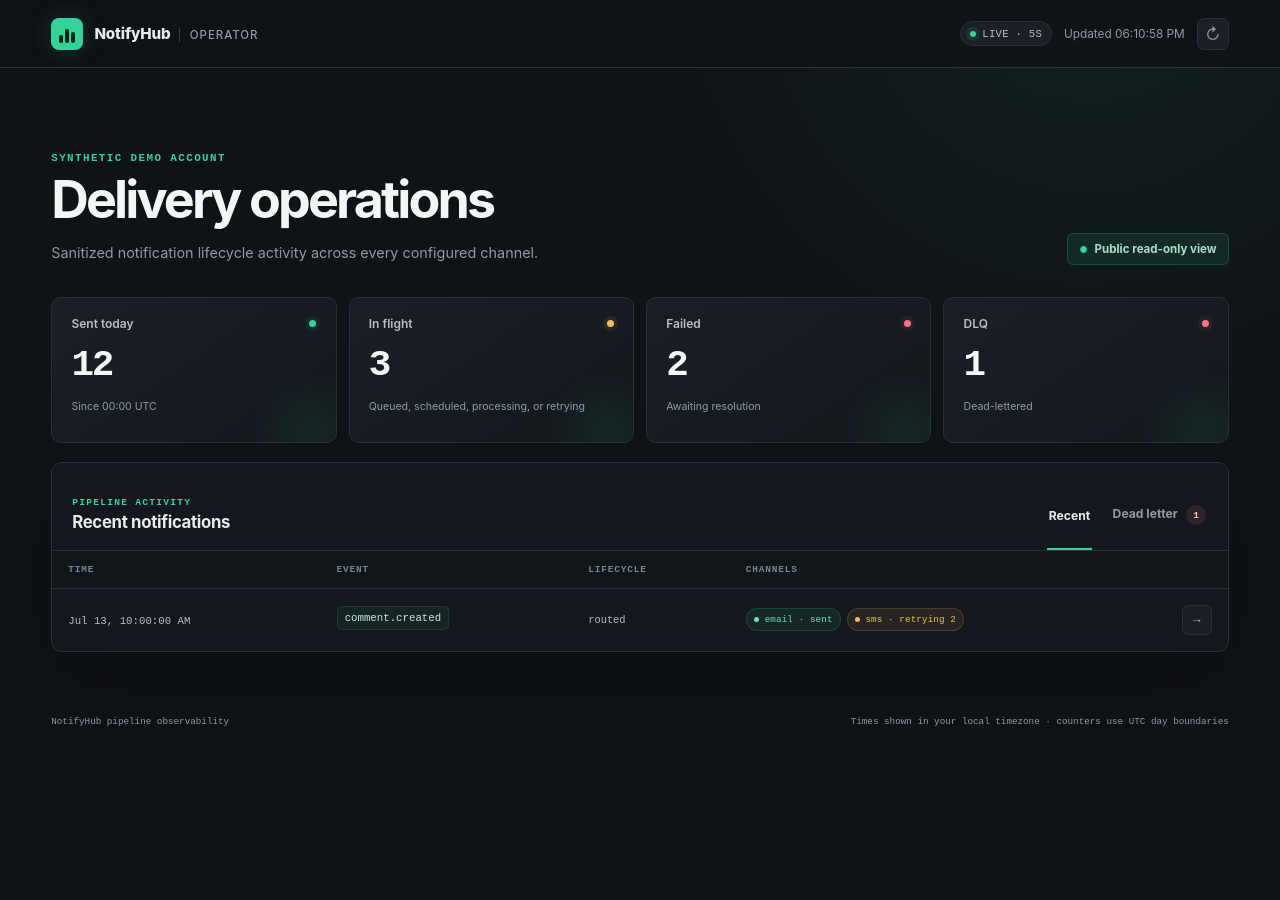
Test: operator dashboard › handles the retried retry outcome and keeps the key in component memory
Click the tab "Dead letter 1". click: (1159, 516)
box: [1111, 482, 1208, 550]
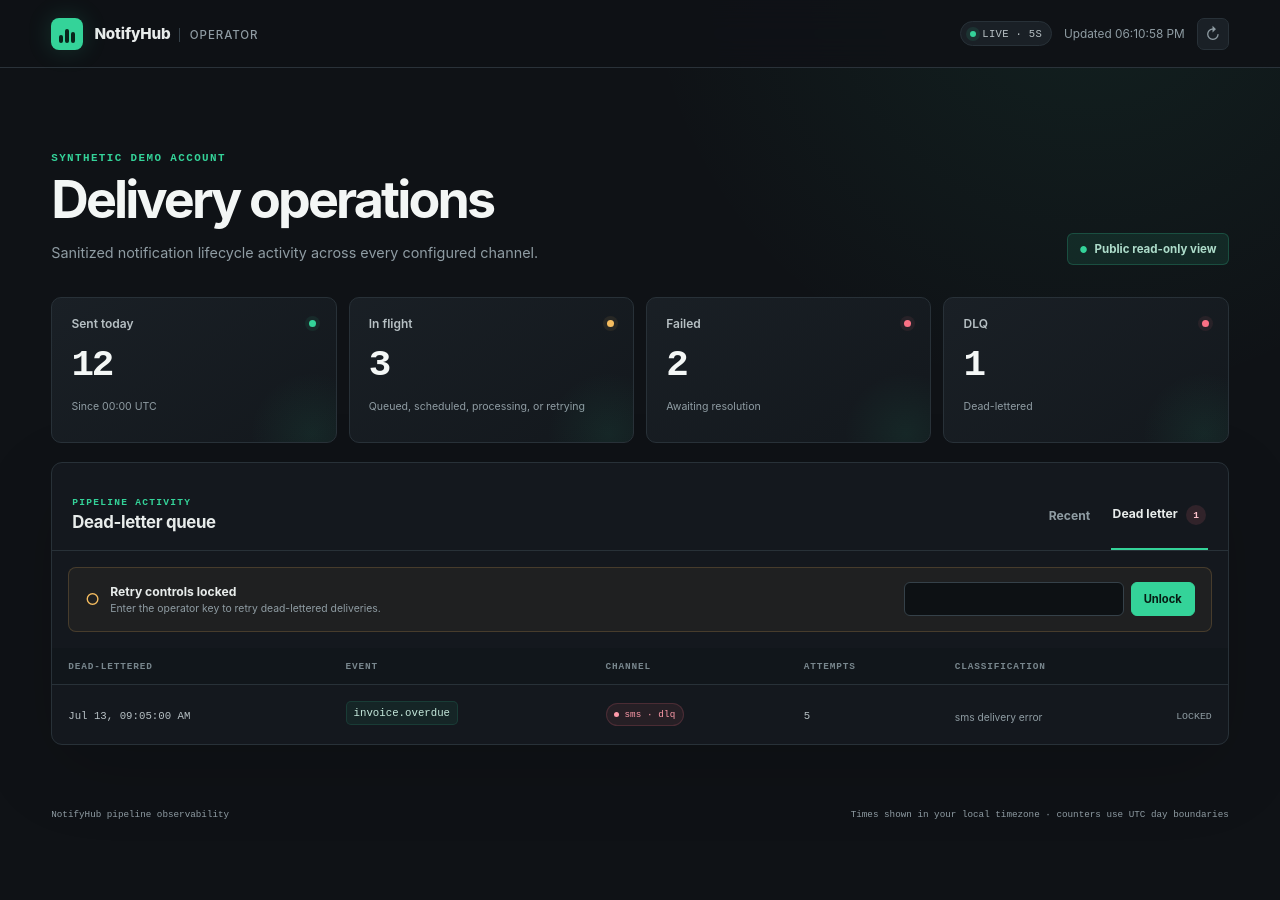
Type "memory-only-key" into the password field named "Operator key". click: (1014, 599)
box: [904, 582, 1124, 616]
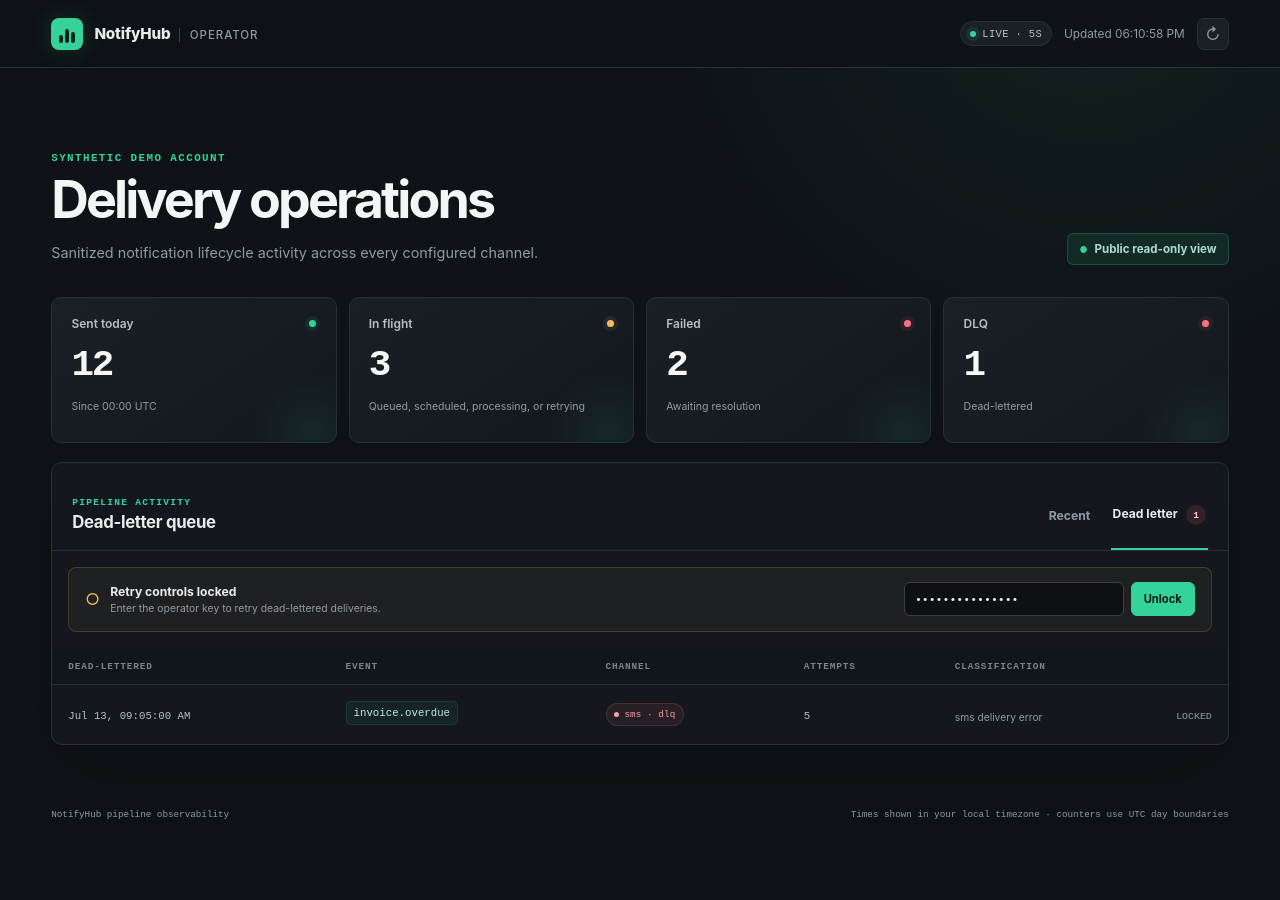
Submit the form named "Operator key", box [904, 582, 1195, 616]
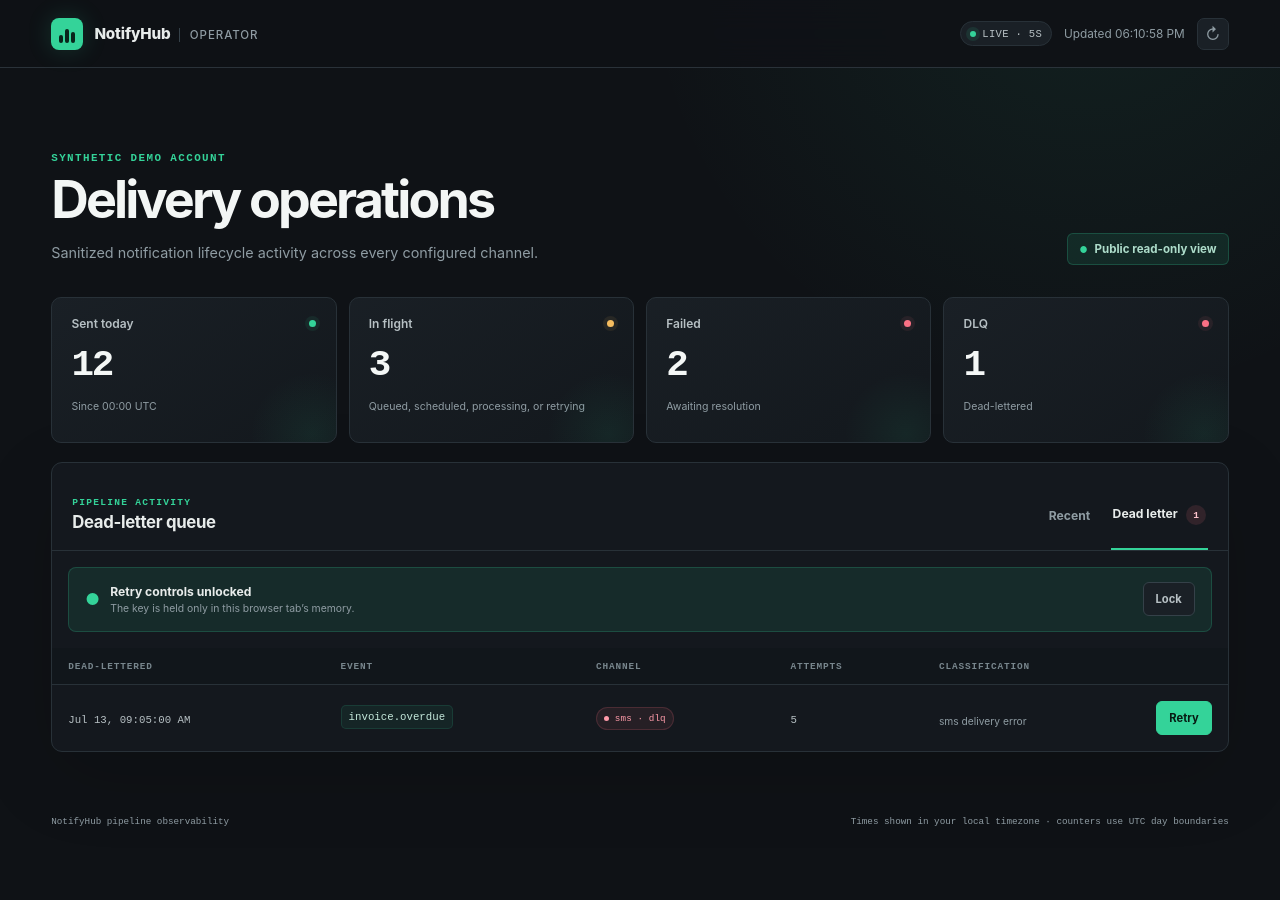
Click the button "Retry". click: (1184, 718)
box: [1156, 701, 1212, 735]
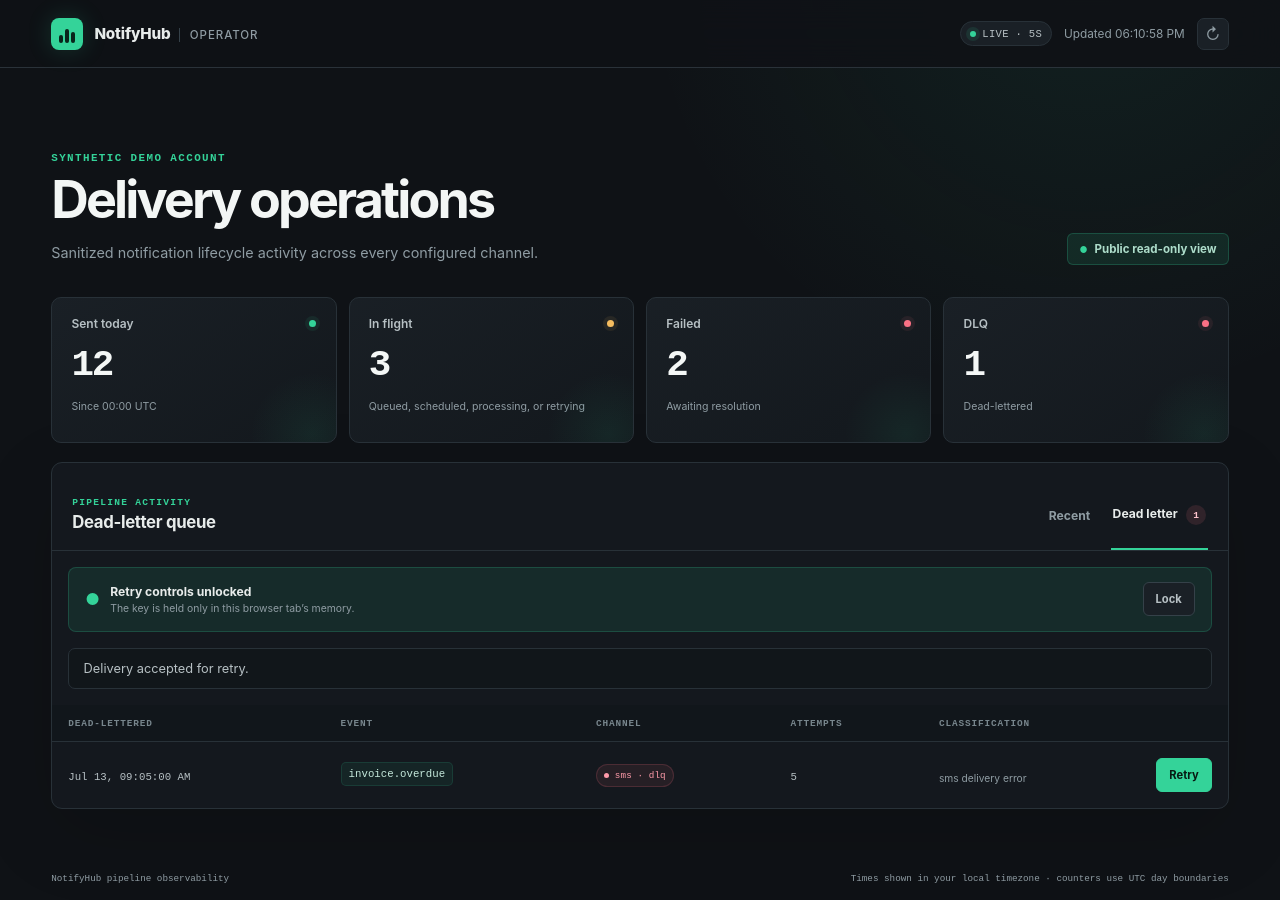
expect the text "Delivery accepted for retry." is shown: met, box [68, 648, 1212, 689]
